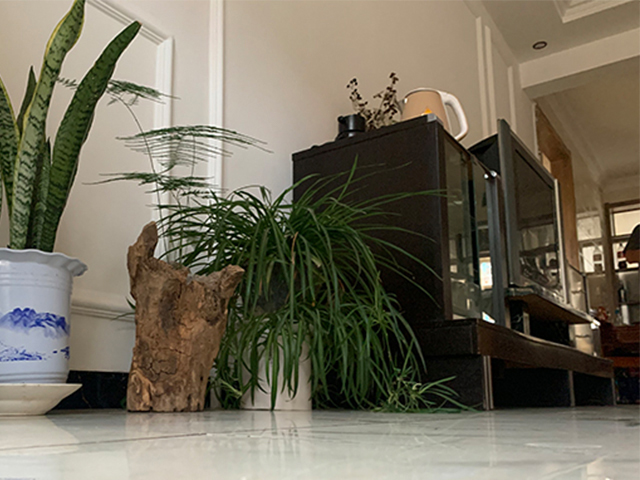cabinet: (291, 112, 618, 412)
